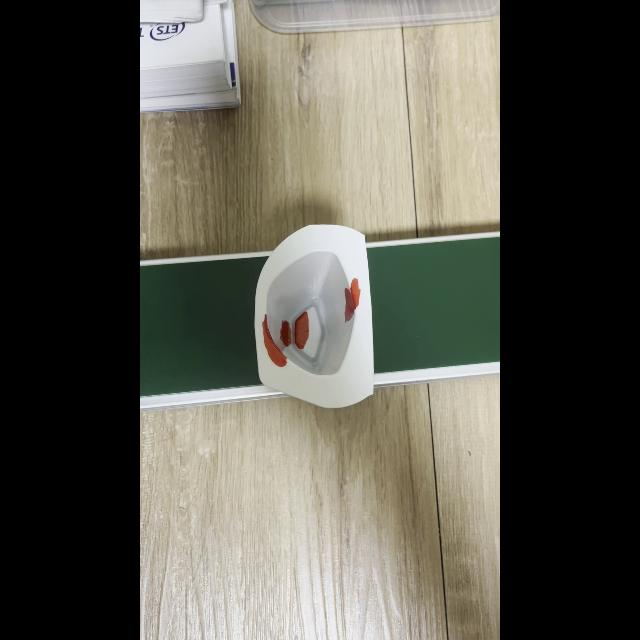dirty: (254, 257, 380, 389)
